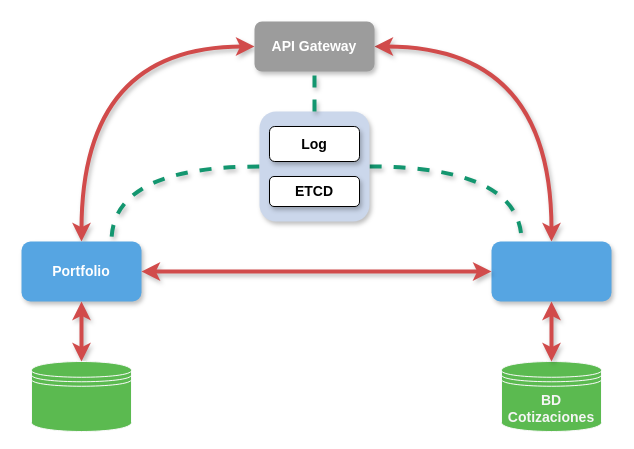
The diagram is 634 pixels wide and 449 high, and some of its shapes have lost their labels. Each missing label, with the centre of its shape:
"BD Portfolio" goes at pixel 81 396.
"Cotizaciones" goes at pixel 552 272.
